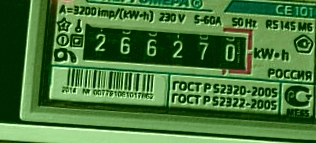0: (223, 42, 238, 63)
2: (92, 32, 109, 53), (170, 38, 186, 59)
6: (118, 34, 133, 56), (145, 37, 160, 58)
7: (196, 40, 210, 60)
screen: (73, 13, 261, 80)
